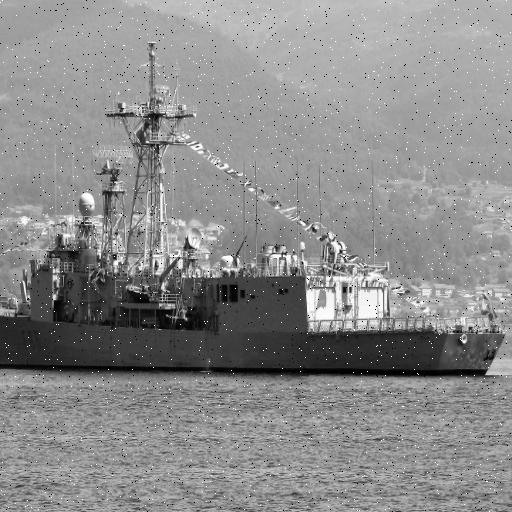Fragata: (1, 48, 508, 377)
